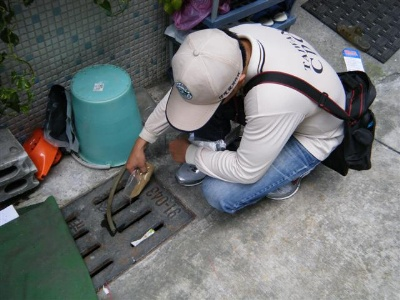bucket: (69, 63, 145, 168)
